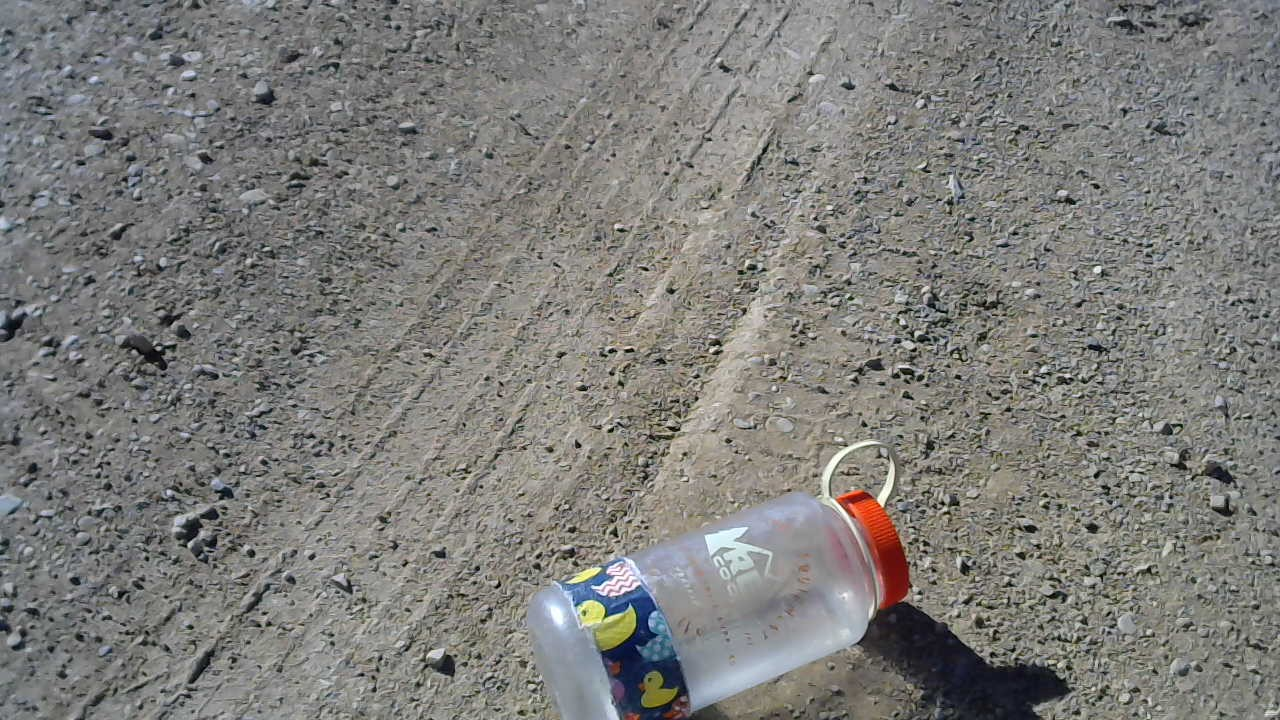bottle: (514, 434, 920, 720)
